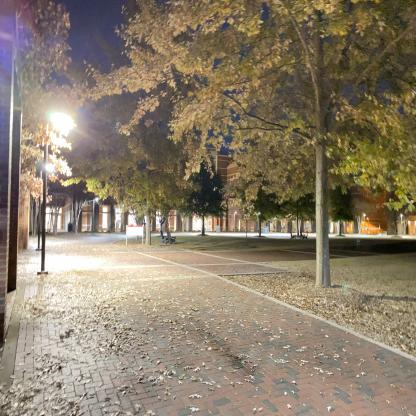eb2: (83, 138, 353, 242)
